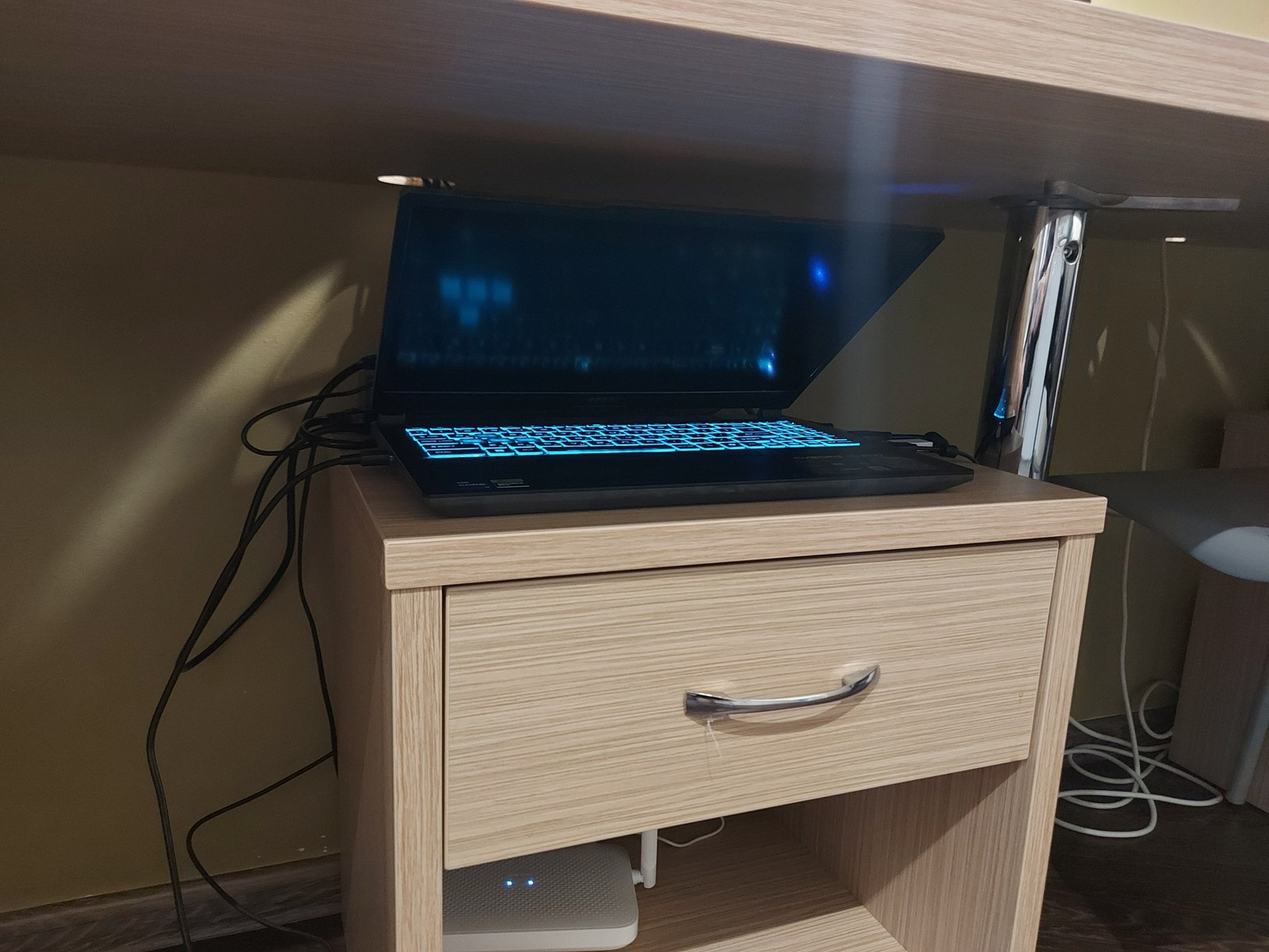laptop: (369, 187, 975, 515)
